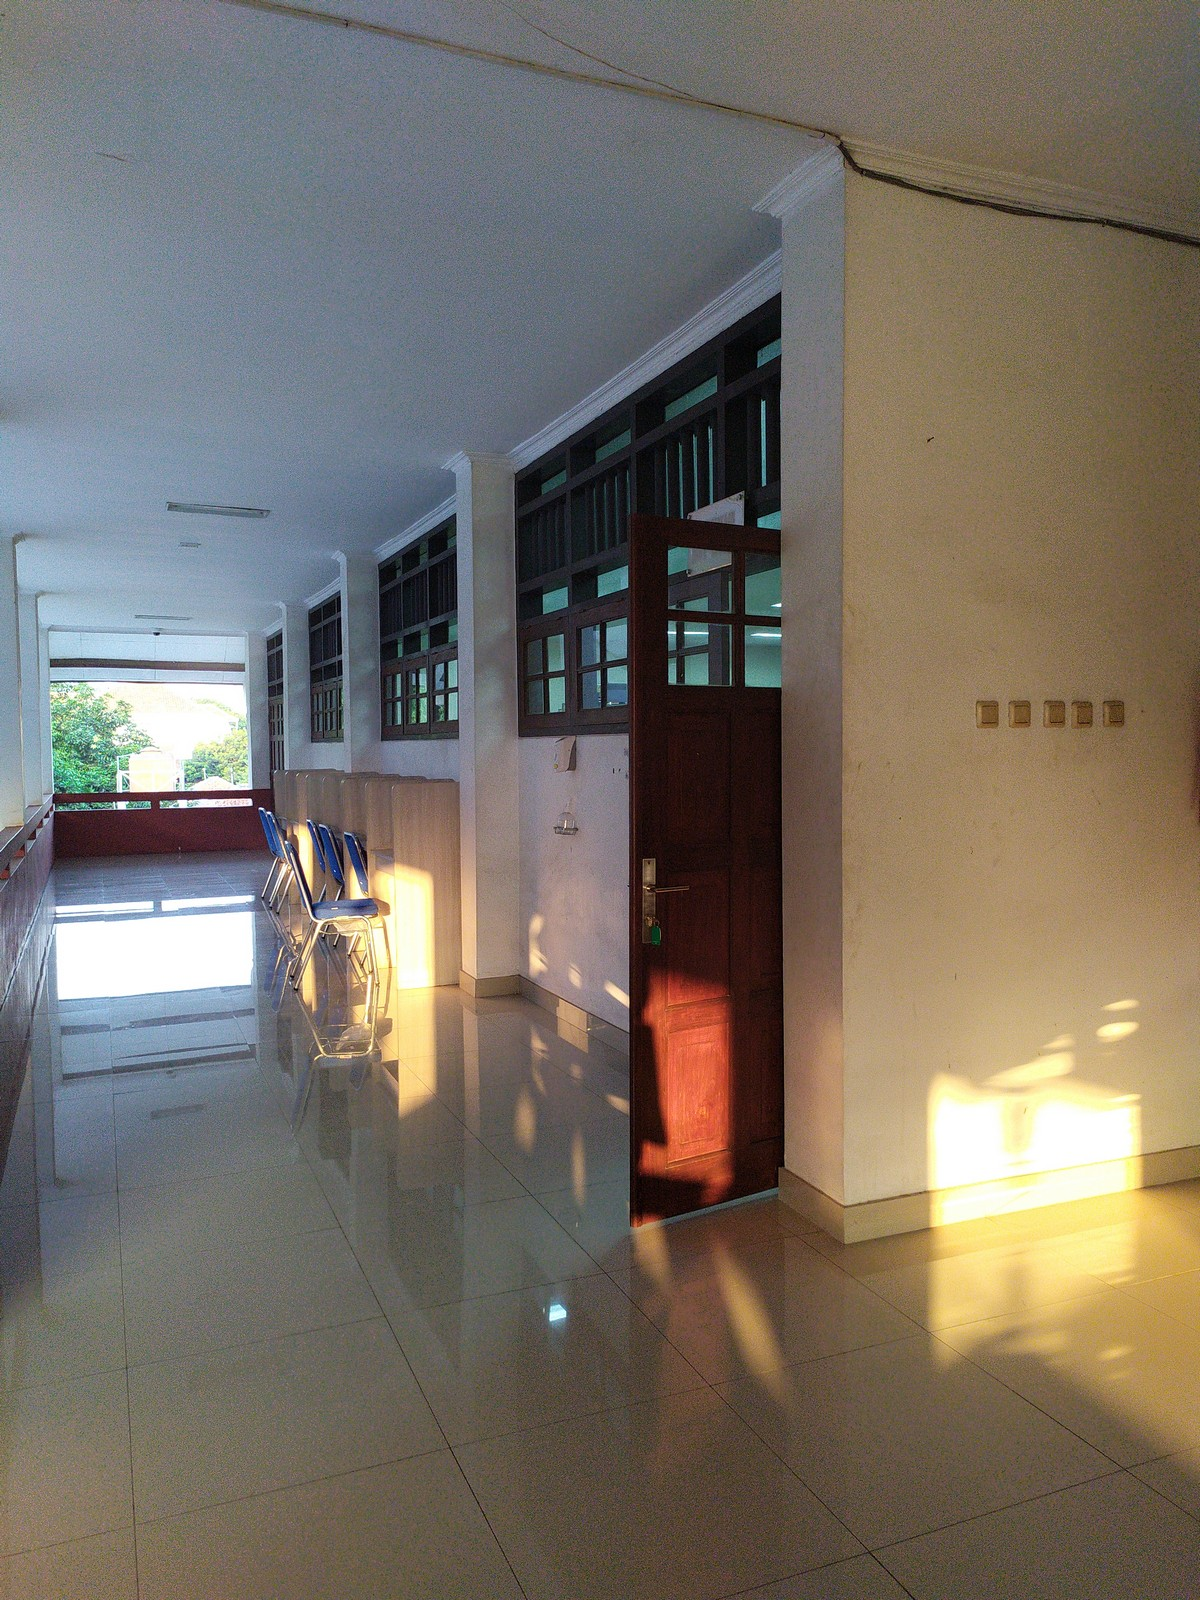concrete column: (444, 446, 537, 1005), (334, 543, 384, 774), (275, 593, 316, 769)
